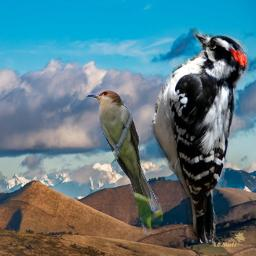Cuckoo: (86, 89, 163, 235)
Woodpecker: (150, 28, 252, 243)
